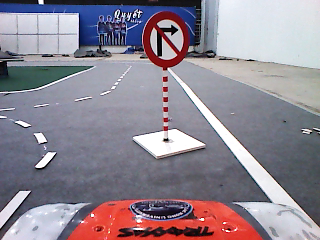ban: (142, 10, 191, 68)
